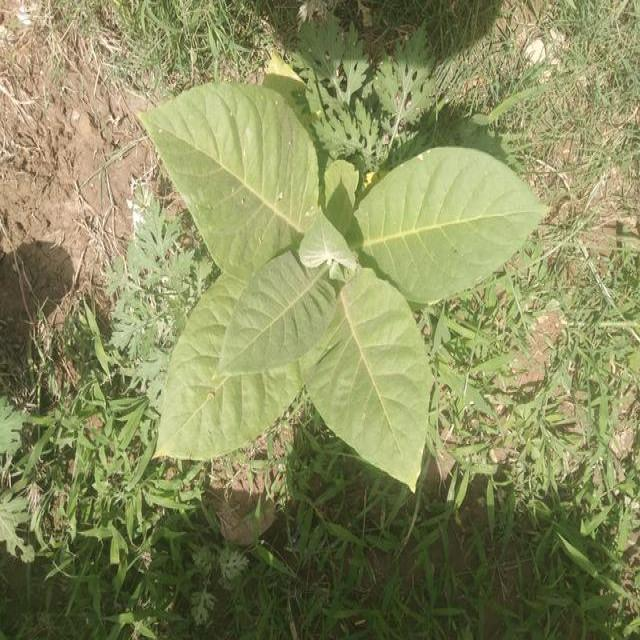crop: (138, 74, 531, 500)
